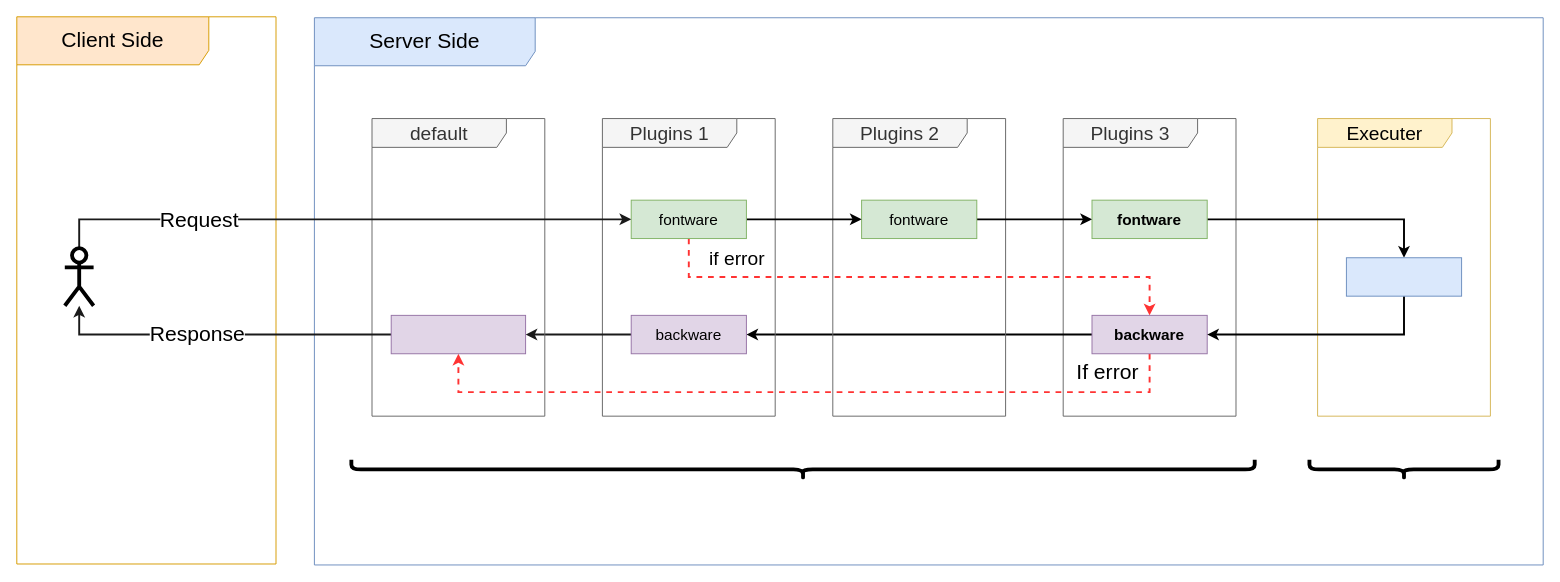
Image size: 1560x582. Some labels were removed from this diagram. The shapes that lost their labels are listed below. From the top down, each one's centre as x and y in pixels, then its label:
(x=78, y=276): Client
(x=1403, y=276): handle
(x=458, y=334): responseHandler
(x=802, y=468): I/O Layer
(x=1403, y=468): Logic Layer
